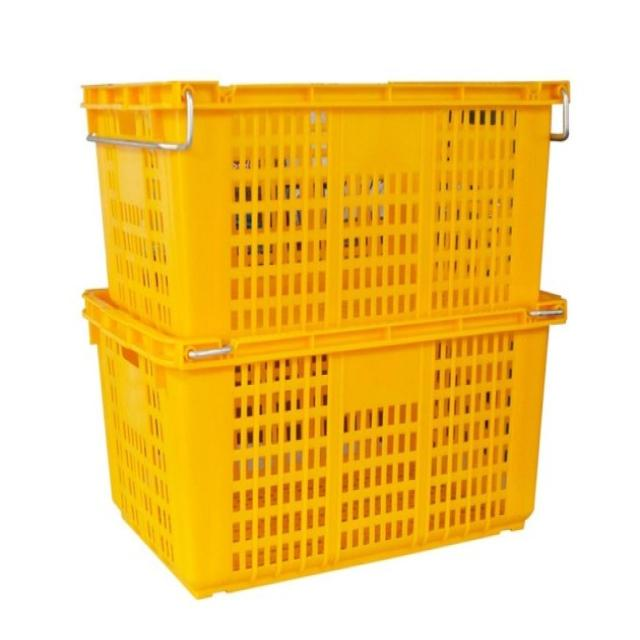basket: (82, 81, 570, 598), (82, 81, 571, 340)
